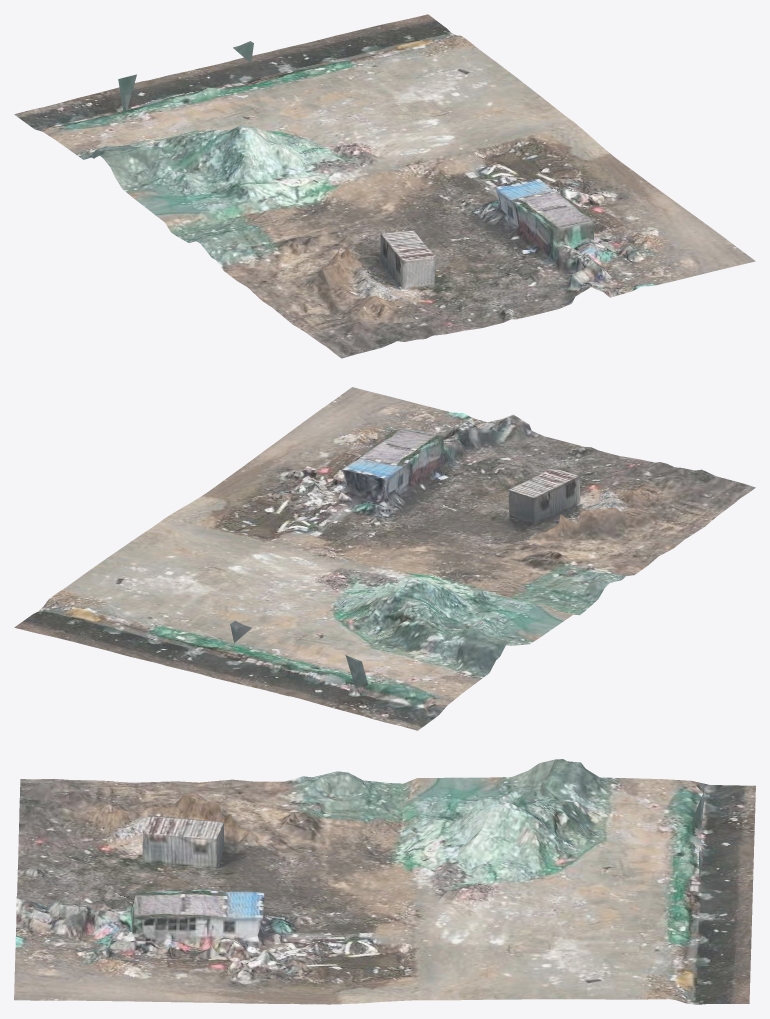
File: Tile_+009_+009_L19_0uuuu0.glb
The picture shows the model from 3 angles, top to bottom: view 1: azimuth 30°, elevation 25°; view 2: azimuth 150°, elevation 25°; view 3: azimuth 270°, elevation 25°; orthographic projection. The views are drawn at different scales.
Visible parts, largest first — view 1: rtc; view 2: rtc; view 3: rtc.
Part boxes in pixels (x1=…): rtc: x1=14, y1=14, x2=755, y2=358; rtc: x1=14, y1=387, x2=755, y2=730; rtc: x1=14, y1=759, x2=755, y2=1004.
Bounding box in the file's own units: 41.08 × 4.1 × 57.46.
Materials: 5 (5 with a texture image).
